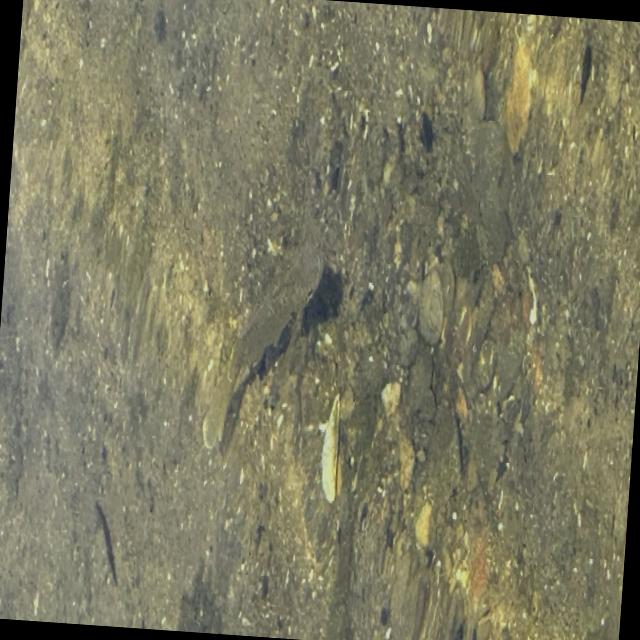Gunes Levregi: (196, 224, 332, 446)
